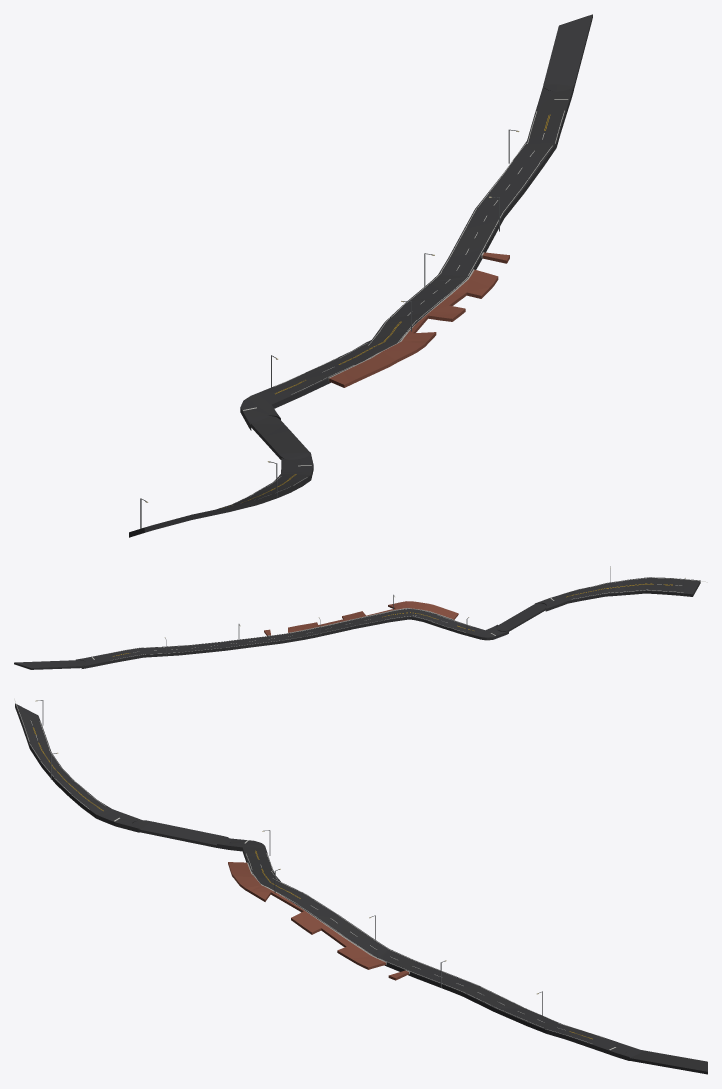
Rendered from 16-54725-29717.ffe440aa.glb.
3 renders of one model, top to bottom at view 1: azimuth 30°, elevation 25°; view 2: azimuth 150°, elevation 25°; view 3: azimuth 270°, elevation 25°, orthographic. The views are drawn at different scales.
Bounding box in the file's own units: 214 × 18.31 × 186.
